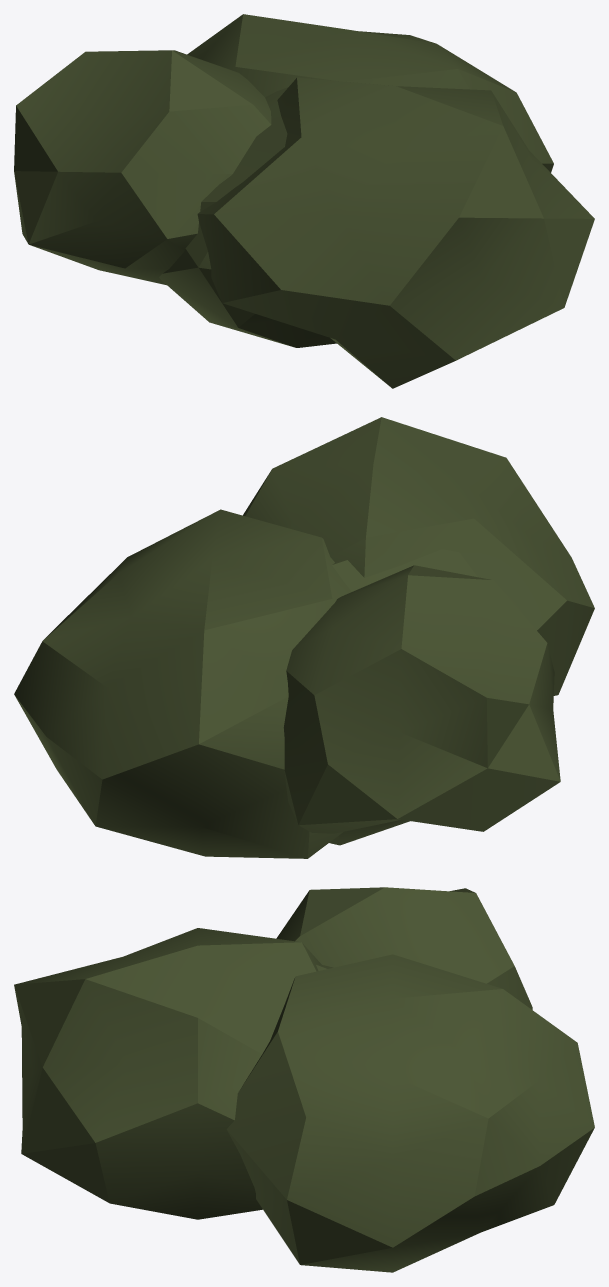
The model's file is shrub.glb.
3 renders of one model, top to bottom at view 1: azimuth 30°, elevation 25°; view 2: azimuth 150°, elevation 25°; view 3: azimuth 270°, elevation 25°, orthographic. The views are drawn at different scales.
Visible parts, largest first — view 1: Body_LOD0; view 2: Body_LOD0; view 3: Body_LOD0.
Part boxes in pixels (x1,y1,x2,y2): Body_LOD0: [14, 14, 594, 388]; Body_LOD0: [14, 417, 594, 858]; Body_LOD0: [14, 887, 594, 1272].
Bounding box in the file's own units: 2.43 × 1.32 × 2.55.
